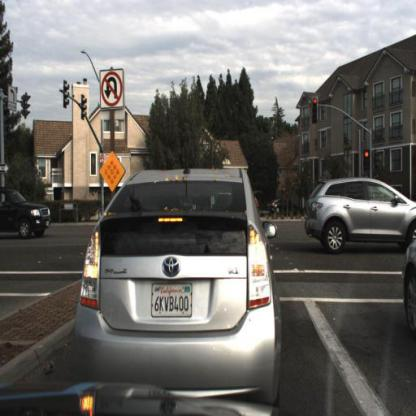car: (69, 164, 285, 390), (305, 178, 416, 256), (2, 187, 53, 240), (399, 222, 416, 346)
trafficLight-Red: (361, 145, 373, 176), (310, 92, 320, 127)
